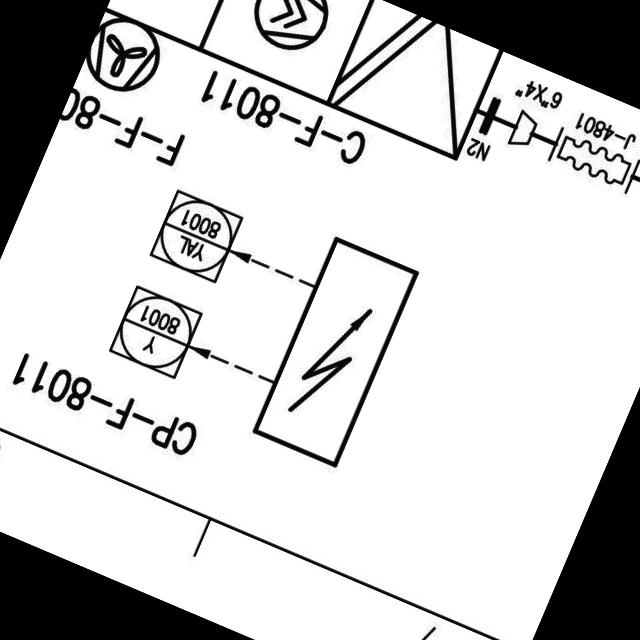C: (238, 0, 341, 64)
EJ: (541, 121, 640, 197)
F: (74, 9, 170, 109)
SP: (502, 105, 544, 154)
